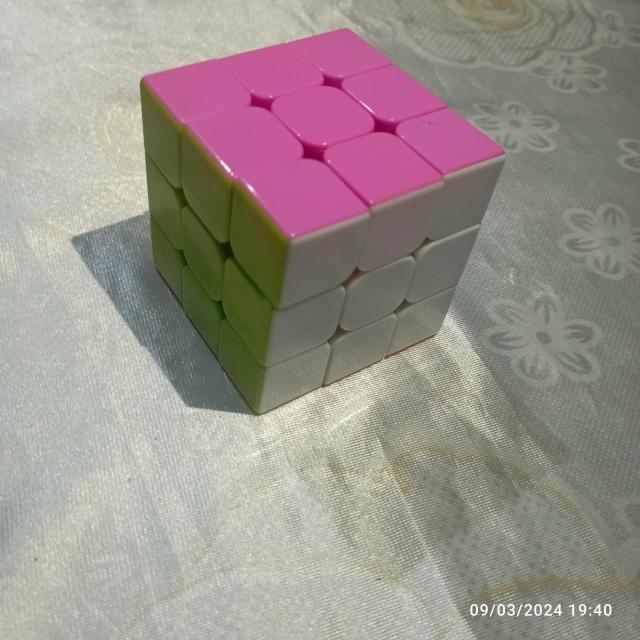Rub: (141, 26, 511, 418)
